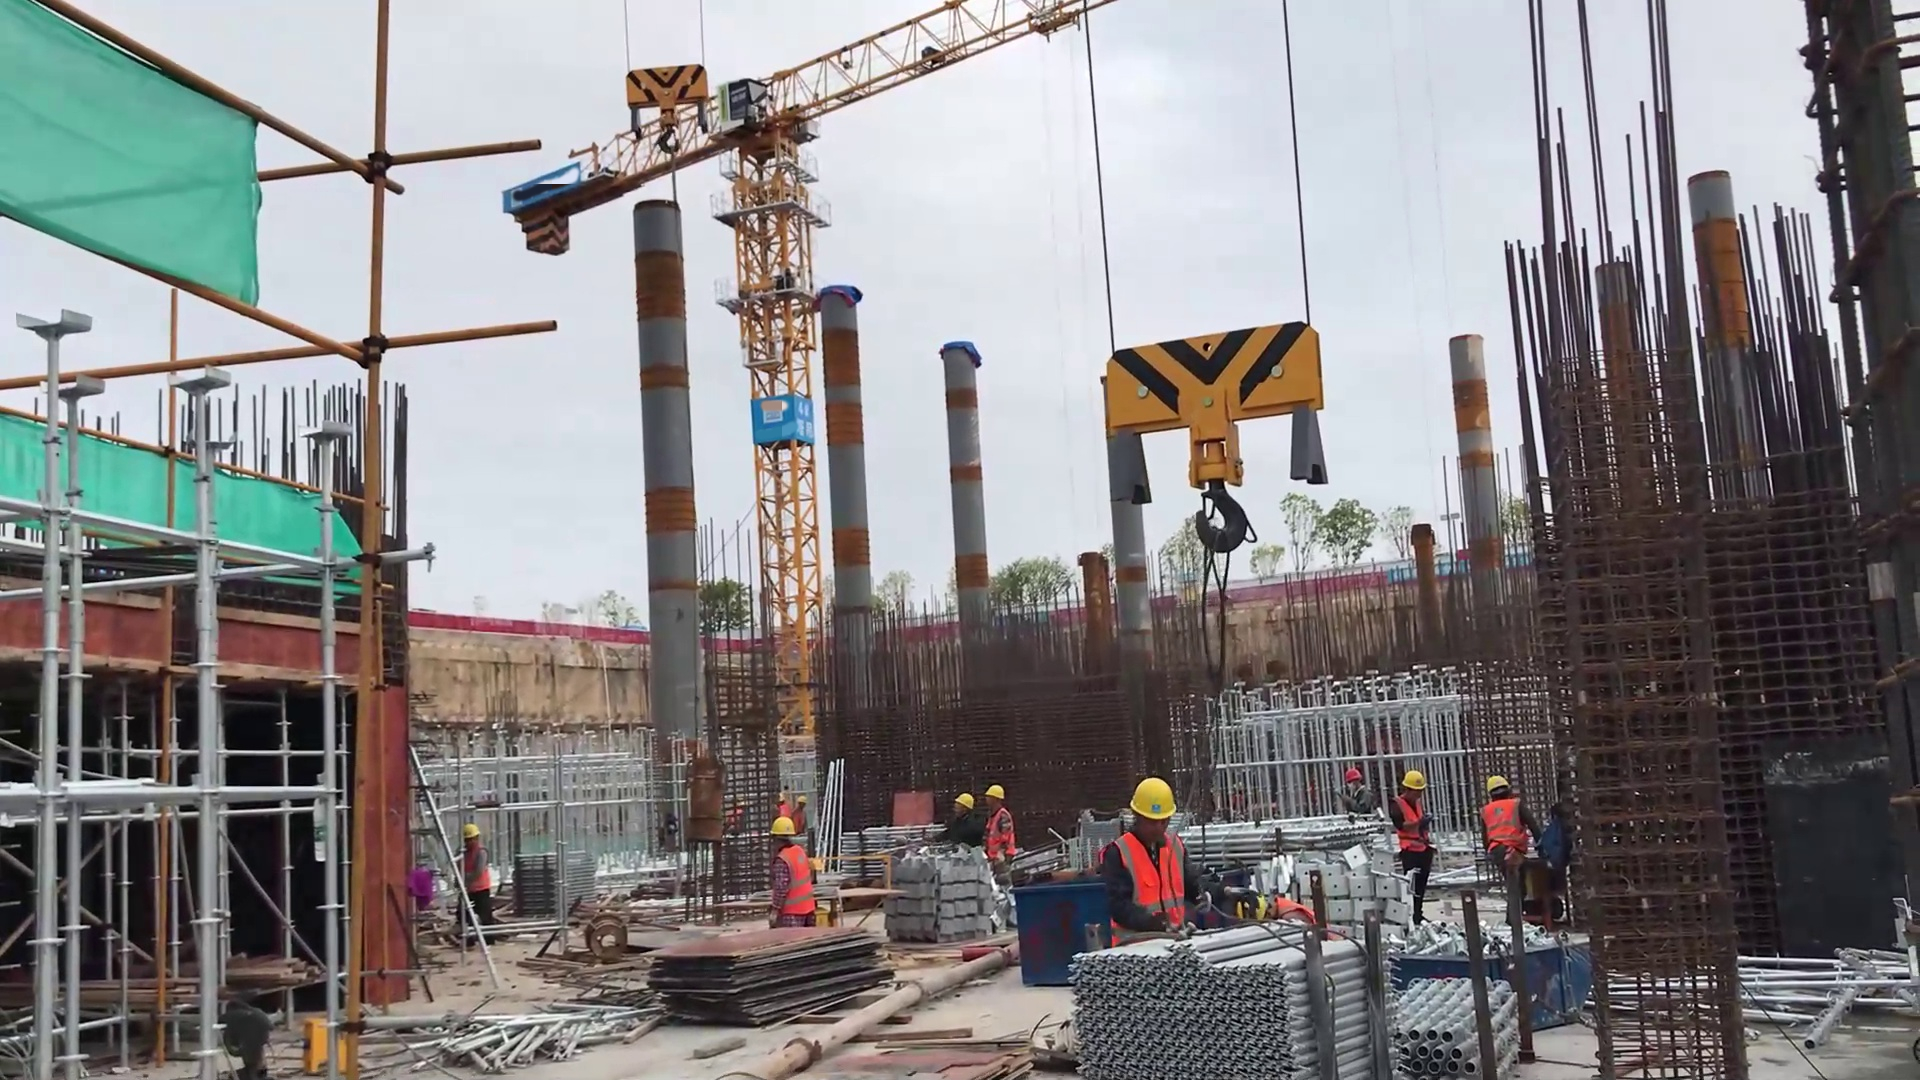board: (647, 914, 901, 1024)
helmet: (1121, 764, 1194, 826), (948, 776, 1017, 815), (940, 777, 1013, 806), (1392, 760, 1444, 797), (755, 806, 802, 841), (1478, 765, 1516, 799), (461, 820, 477, 841)
hook: (1085, 304, 1343, 558), (617, 53, 708, 170)
hopper: (1379, 884, 1600, 1033)
person: (1105, 773, 1211, 943), (448, 810, 525, 935), (755, 806, 829, 929), (1394, 772, 1436, 896), (1481, 762, 1527, 873), (992, 780, 1020, 866)
scaffold: (1027, 872, 1397, 1080), (1363, 845, 1526, 1080)
vest: (1104, 822, 1197, 946), (771, 849, 831, 927), (1382, 793, 1433, 864), (1489, 793, 1532, 841), (462, 849, 498, 896)
